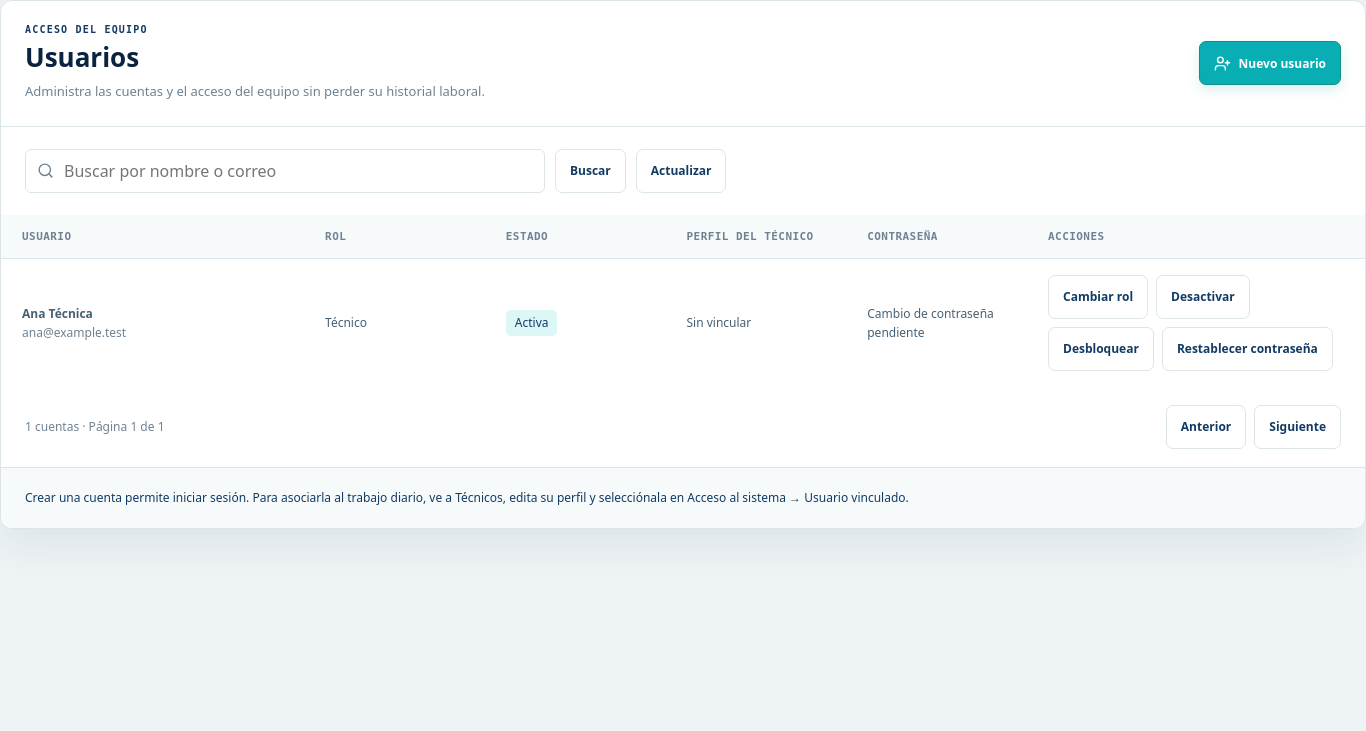
Test: usuarios en configuración › conserva la confirmación ante conflicto sin anunciar éxito
This screenshot has width=1366, height=731.
Click the button "Desactivar": (1203, 297) [1156,275,1250,319]
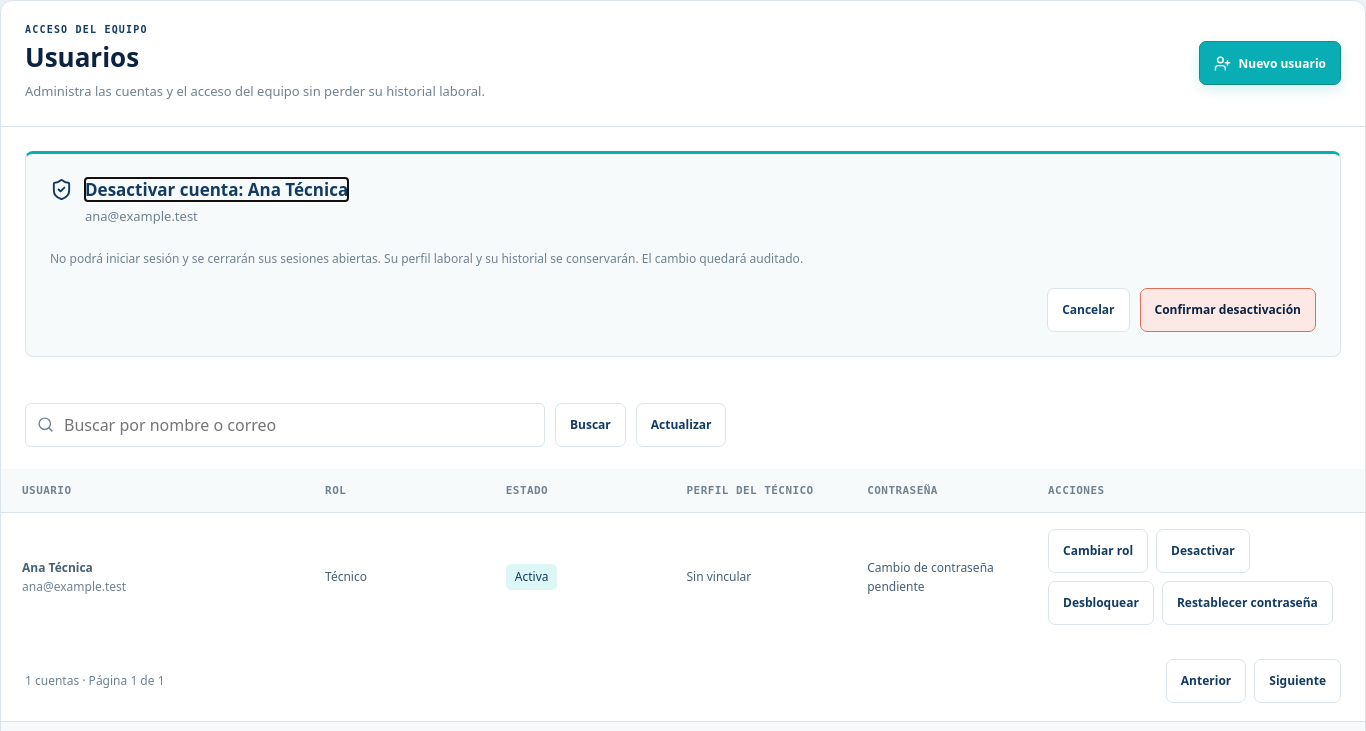
Click the button "Confirmar desactivación": (1228, 310) [1140,288,1316,332]
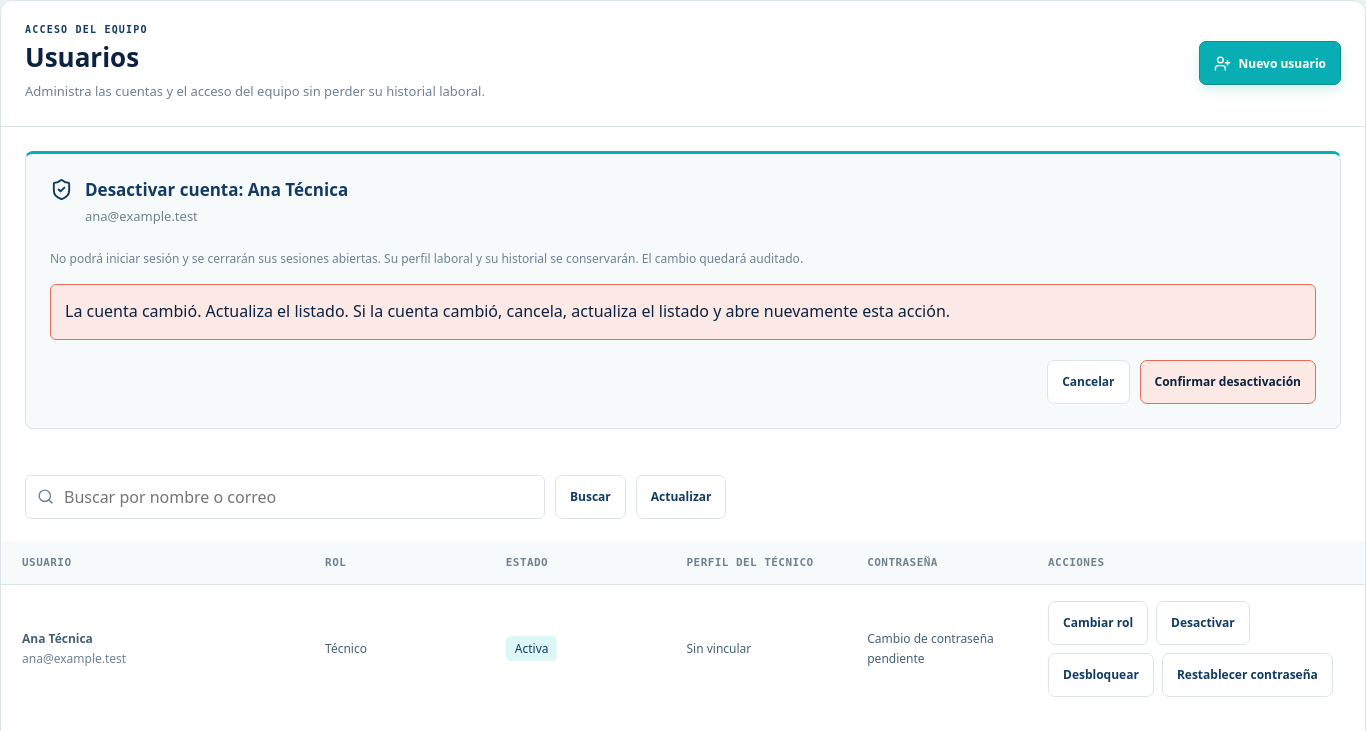
Expected: the button "Cancelar" is enabled, [1047,360,1130,404]
Expected: the message shows "La cuenta cambió", [65,300,345,322]
